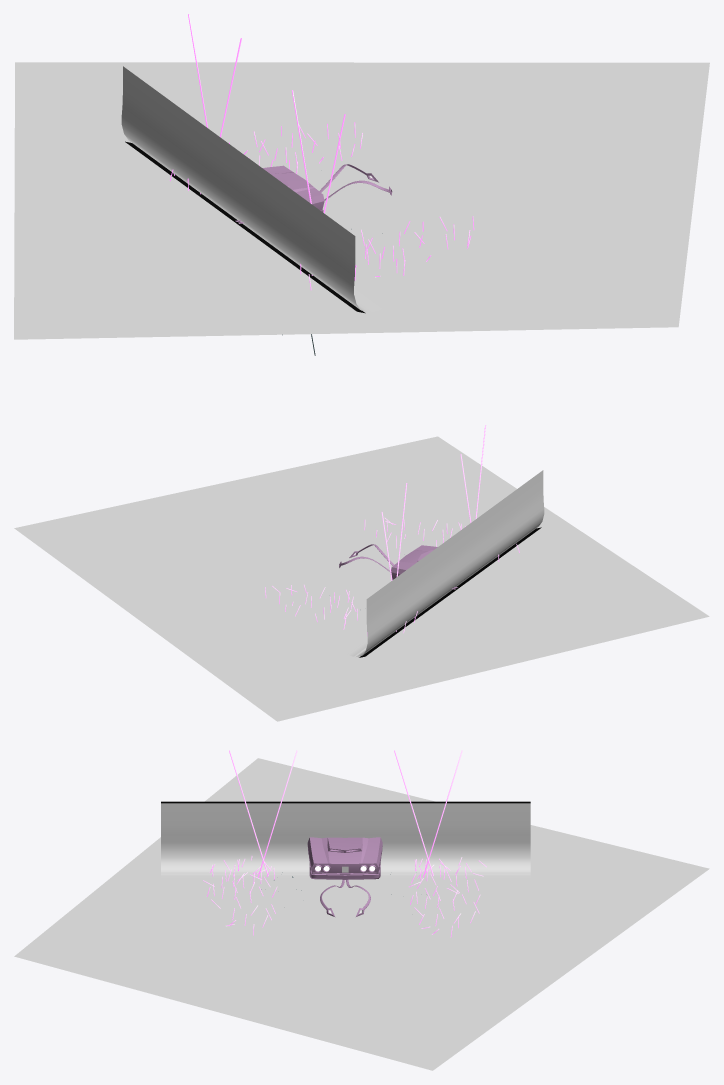
File: mainstage.fbx
3 views of the same model, one above another, from view 1: azimuth 30°, elevation 25°; view 2: azimuth 150°, elevation 25°; view 3: azimuth 270°, elevation 25° (orthographic). The views are drawn at different scales.
Parts seen in each view (by area): view 1: Plane.006, Plane.007, Cylinder.102, Cube.003, G; view 2: Plane.006, Plane.007, Cylinder.102, Cube.003, G; view 3: Plane.006, Plane.007, Cube.003, Cylinder.102, G.
Boxes of the visible parts, box(x1,y1,x2,y2) form: Plane.006: box(14, 62, 709, 339); Plane.007: box(121, 66, 382, 312); Cylinder.102: box(169, 14, 474, 290); Cube.003: box(235, 164, 392, 223); G: box(125, 141, 365, 313); Plane.006: box(14, 436, 709, 721); Plane.007: box(346, 470, 544, 656); Cylinder.102: box(265, 425, 519, 635); Cube.003: box(339, 544, 457, 589); G: box(359, 527, 541, 657); Plane.006: box(14, 758, 709, 1070); Plane.007: box(161, 803, 530, 877); Cube.003: box(307, 837, 382, 916); Cylinder.102: box(203, 750, 486, 937); G: box(161, 801, 530, 803).
Size of the model in its own units: 11474 by 3568 by 10789.
